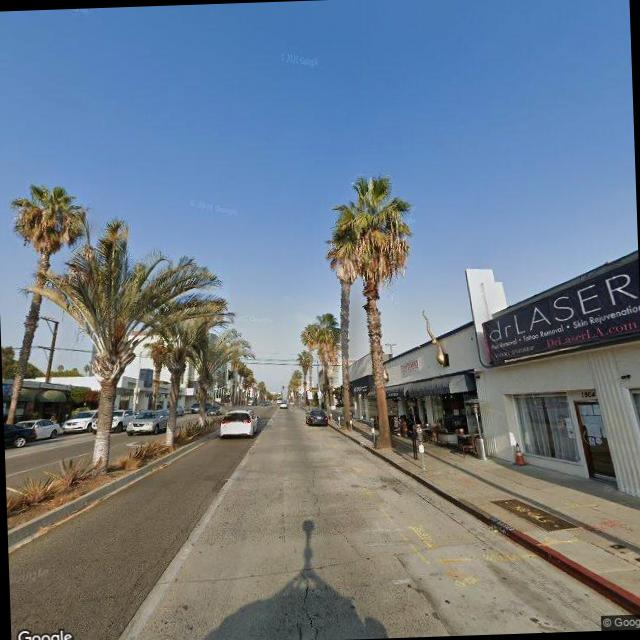pothole: (291, 568, 322, 639)
